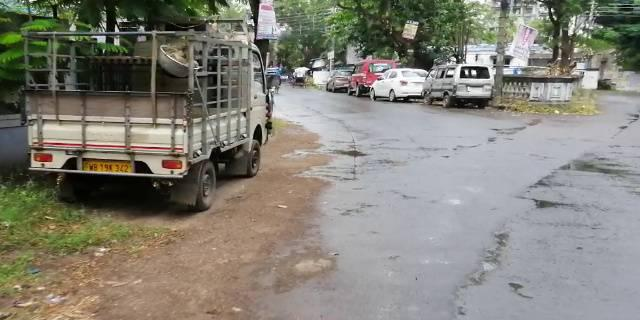Car: (370, 64, 423, 104), (346, 60, 385, 94)
Minitruck: (20, 30, 279, 205)
Van: (430, 65, 493, 107)
